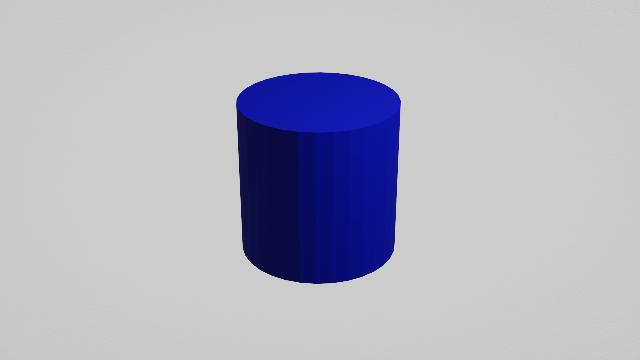Cylinder: (226, 68, 410, 290)
